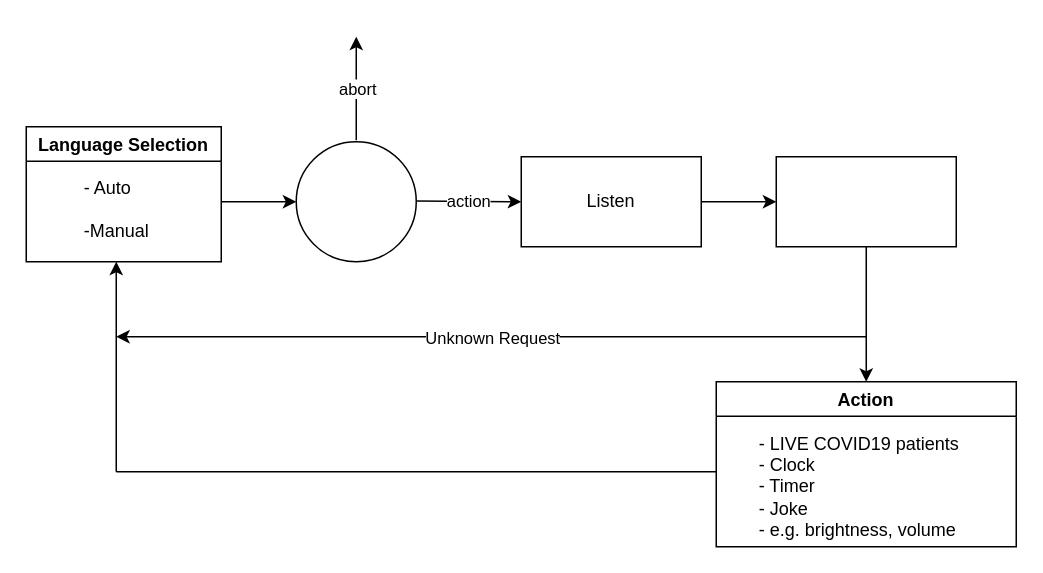
Some shapes in this 1043 by 573 pixel diagram are drawn without their labels. The shapes that lost their labels are listed below. From the top down, each one's centre as x and y in pixels, then its label:
At (355,201): "Standby".
At (865,201): "Analysis".
